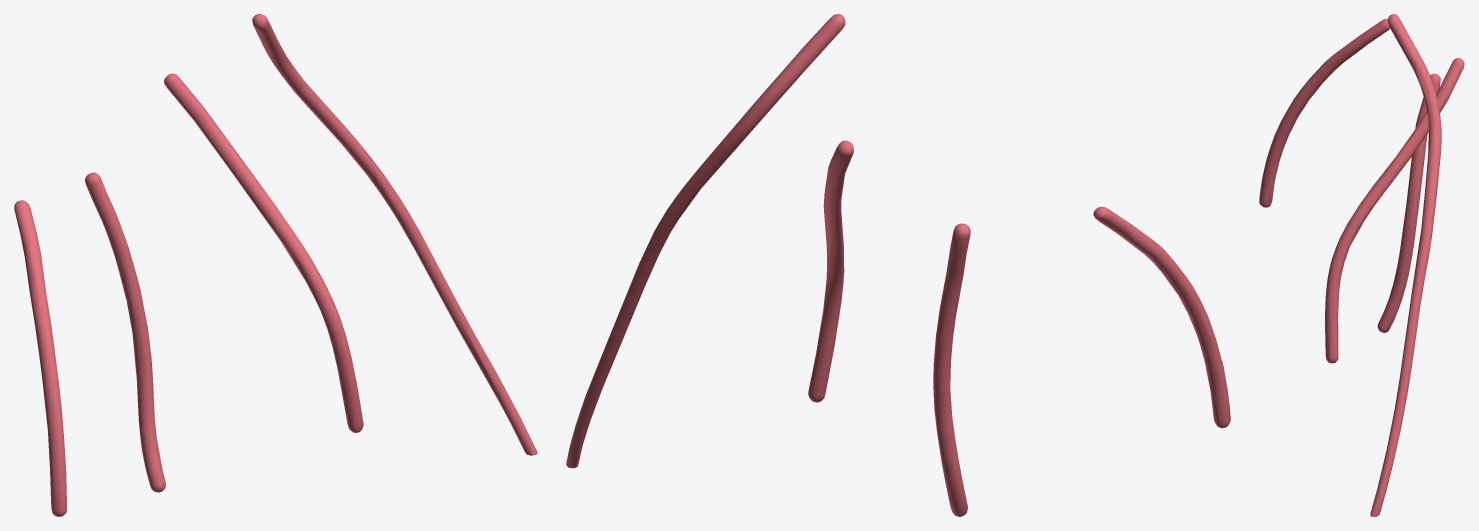
File: fma85103_fj2319.glb
The picture shows the model from 3 angles, left to right: view 1: azimuth 30°, elevation 25°; view 2: azimuth 150°, elevation 25°; view 3: azimuth 270°, elevation 25°; orthographic projection. The views are drawn at different scales.
Visible parts, largest first — view 1: FMA85103_FJ2319; view 2: FMA85103_FJ2319; view 3: FMA85103_FJ2319.
Boxes of the visible parts, x1=… form: FMA85103_FJ2319: x1=14, y1=14, x2=537, y2=516; FMA85103_FJ2319: x1=566, y1=14, x2=1230, y2=516; FMA85103_FJ2319: x1=1259, y1=14, x2=1464, y2=516.
Bounding box in the file's own units: 0.0579 × 0.0496 × 0.0232.
